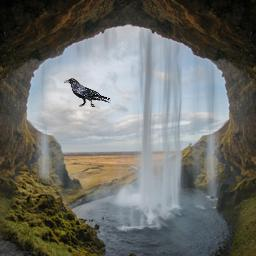Crow: (64, 78, 113, 108)
